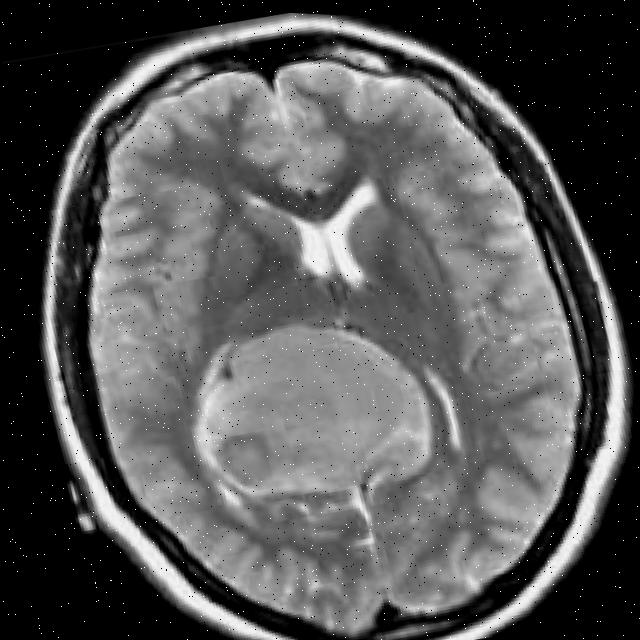Meningioma: (166, 288, 452, 531)
